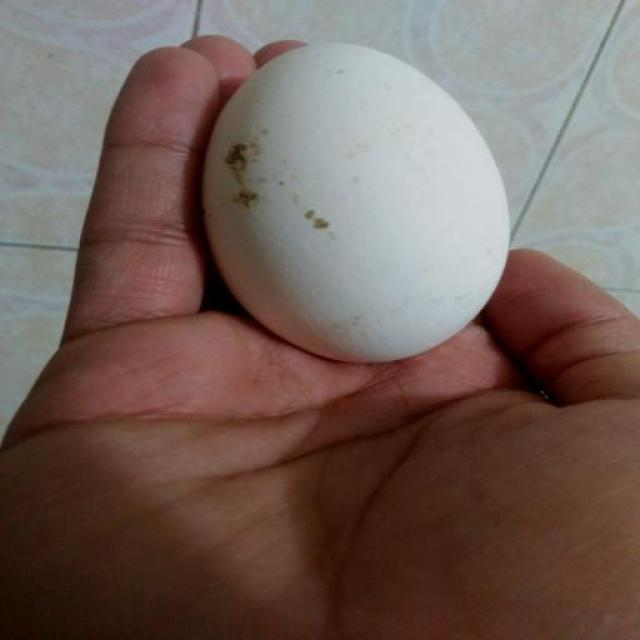telur: (204, 44, 508, 364)
